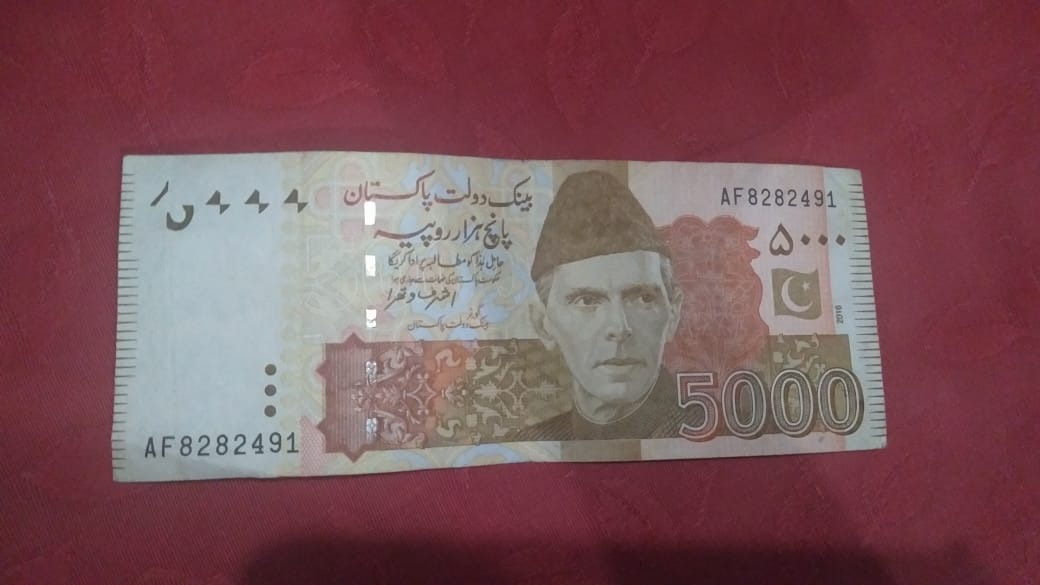5000 rupee: (103, 128, 899, 481)
